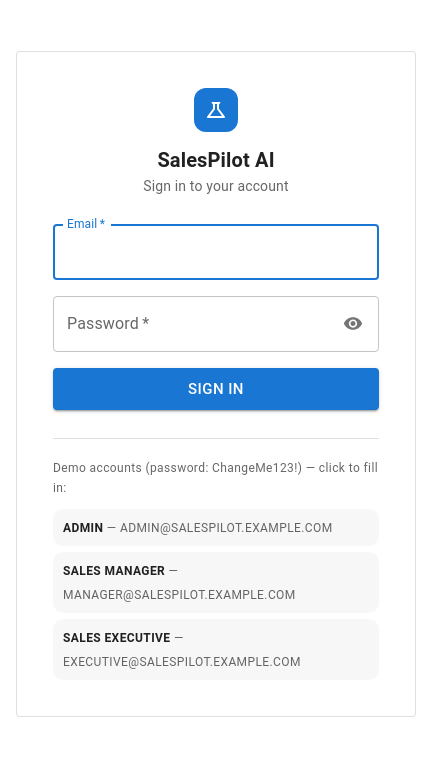
Test: Login page › shows a distinct "can't reach the server" message when the API is unreachable, not a credentials error
Type "admin@salespilot.example.com" into the field named "Email address" at (216, 252), box [53, 224, 379, 280]
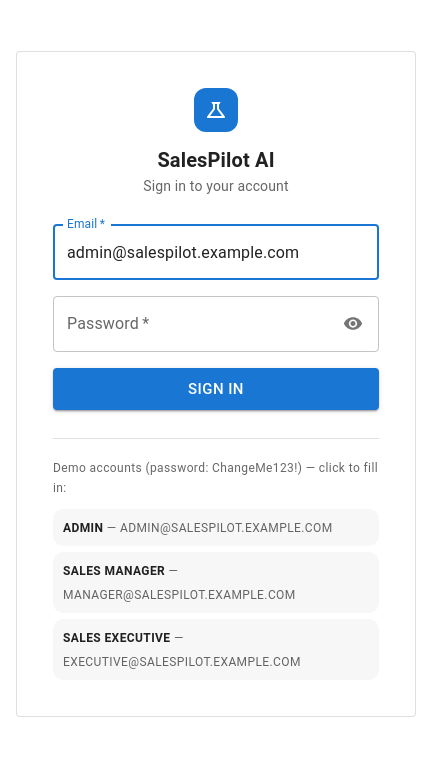
Type "ChangeMe123!" into the password field labelled "Password" at (192, 324), box [53, 296, 330, 352]
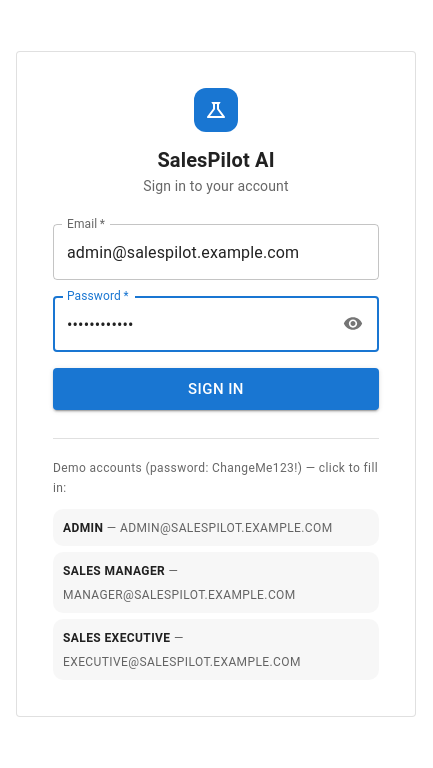
Click the button "Sign In" at (216, 389), box [53, 368, 379, 410]
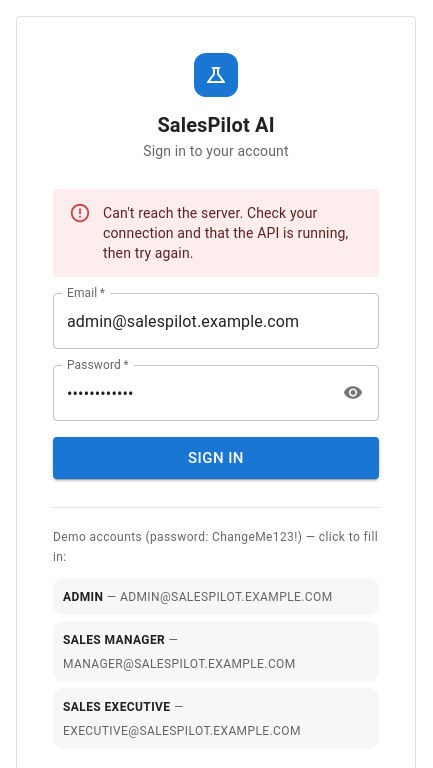
Expected: the text "Can't reach the server" is shown, [103, 205, 348, 261]
